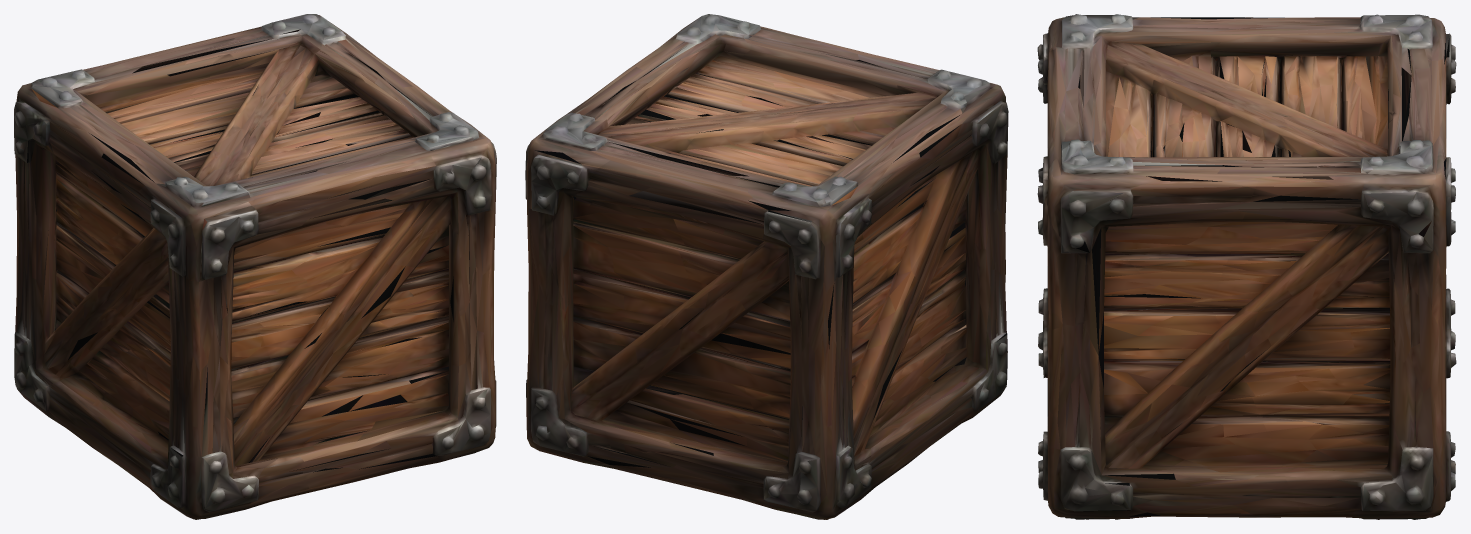
The model's file is kup_ahsap_parcali.glb.
3 renders of one model, left to right at view 1: azimuth 30°, elevation 25°; view 2: azimuth 150°, elevation 25°; view 3: azimuth 270°, elevation 25°, orthographic. The views are drawn at different scales.
Parts seen in each view (by area): view 1: p10, p00, p04, p06, p07, p11, p05, p02, p09, p01; view 2: p07, p10, p03, p04, p09, p08, p05, p11, p00, p01; view 3: p02, p08, p05, p11, p00, p10, p07, p01, p04, p03.
Part boxes in pixels (x1,y1,x2,y2): p10: (35,102,254,365); p00: (248,126,495,312); p04: (75,305,312,519); p06: (250,305,453,491); p07: (14,39,221,377); p11: (258,71,496,189); p05: (231,14,397,108); p02: (423,276,496,461); p09: (14,340,114,435); p01: (161,52,265,137); p07: (636,153,869,507); p10: (796,69,1008,406); p03: (541,150,755,453); p04: (879,234,1007,474); p09: (607,401,895,519); p08: (526,234,627,467); p05: (525,81,716,236); p11: (613,14,782,124); p00: (738,23,939,112); p01: (658,112,799,173); p02: (1038,303,1303,519); p08: (1213,277,1455,519); p05: (1209,118,1455,314); p11: (1043,99,1289,307); p00: (1037,49,1225,332); p10: (1037,14,1366,103); p07: (1316,14,1456,345); p01: (1220,82,1399,141); p04: (1038,266,1048,381); p03: (1379,115,1446,147).
Bounding box in the file's own units: 0.9654 × 0.9311 × 0.9806.
Materials: 2 (1 with a texture image).
